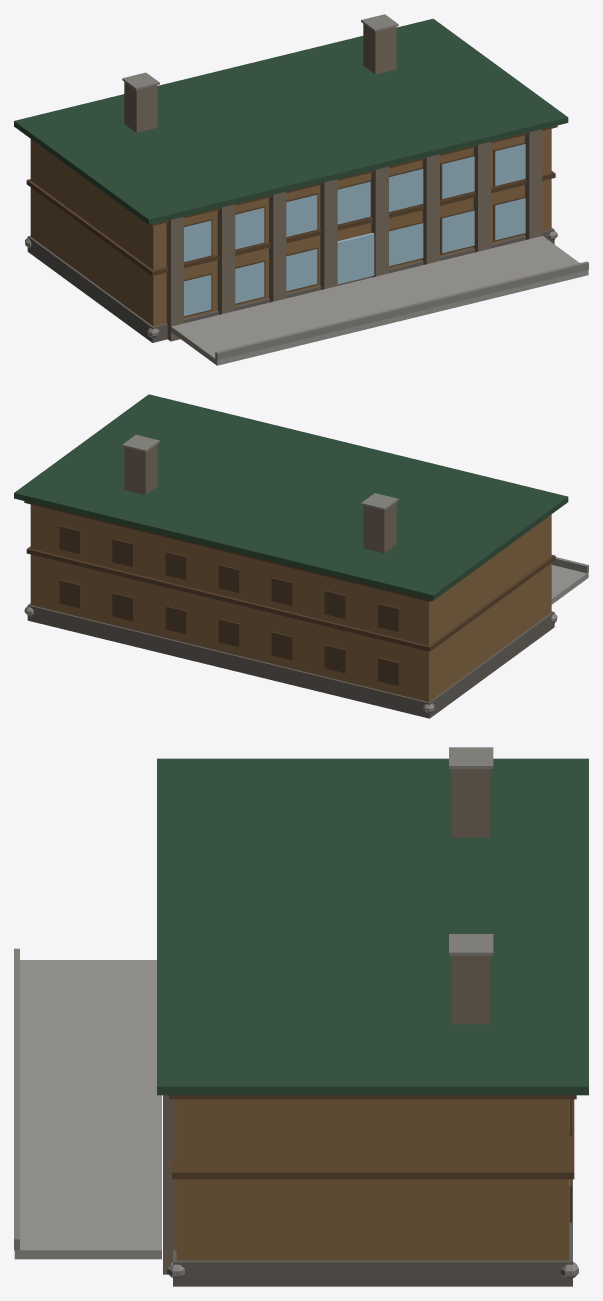
The model's file is lodge_jackson.glb.
The picture shows the model from 3 angles, top to bottom: view 1: azimuth 30°, elevation 25°; view 2: azimuth 150°, elevation 25°; view 3: azimuth 270°, elevation 25°; orthographic projection. The views are drawn at different scales.
Visible parts, largest first — view 1: lodge_jackson, glass_pane (×14), foundation, chimney (×2); view 2: lodge_jackson, foundation, chimney (×2); view 3: lodge_jackson, foundation, chimney (×2).
Part boxes in pixels (box(x1,y1,x2,y2)): lodge_jackson: box(14, 18, 588, 365); glass_pane (×14): box(184, 144, 525, 316); foundation: box(25, 228, 557, 342); chimney (×2): box(122, 14, 398, 132); lodge_jackson: box(14, 394, 588, 701); foundation: box(24, 603, 557, 718); chimney (×2): box(122, 434, 398, 553); lodge_jackson: box(14, 758, 588, 1274); foundation: box(167, 1179, 578, 1286); chimney (×2): box(449, 747, 493, 1024).
Size of the model in its own units: 31.6 by 12.57 by 23.43.
